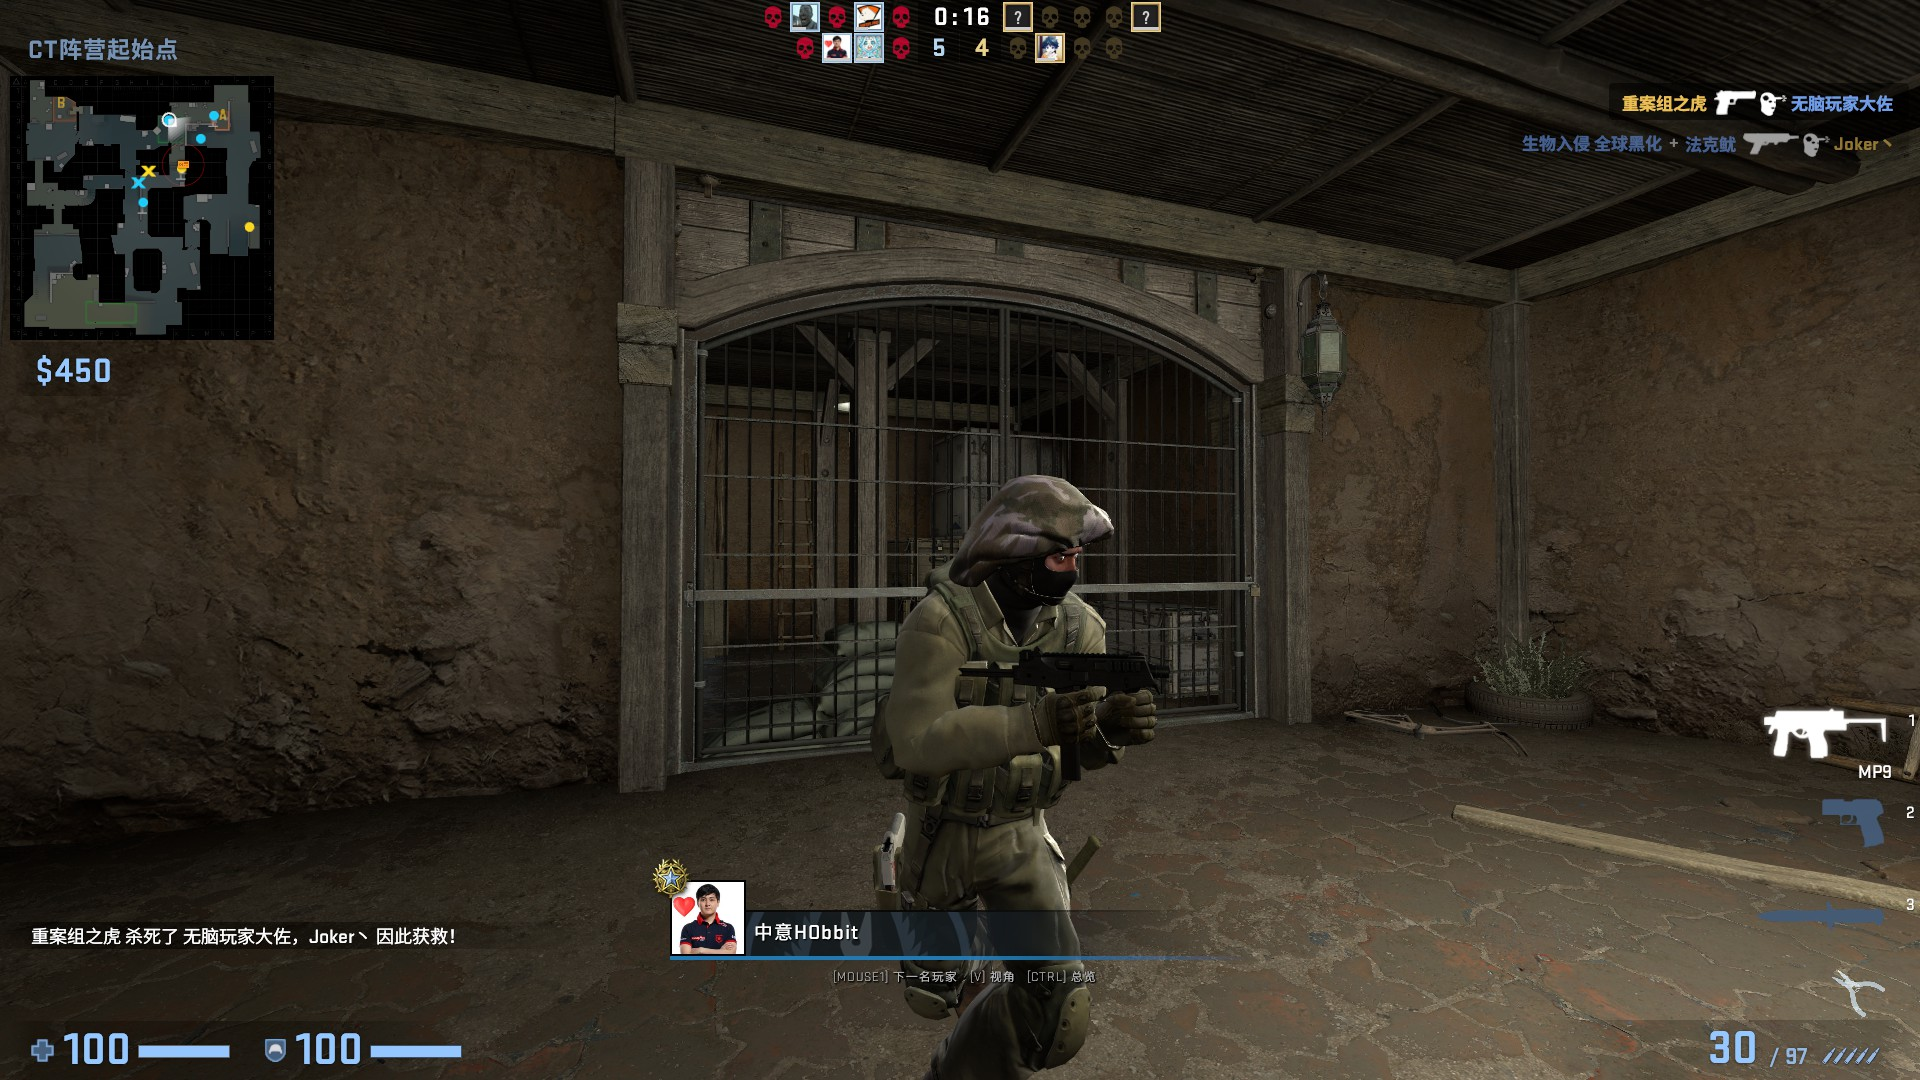head: (964, 474, 1109, 615)
